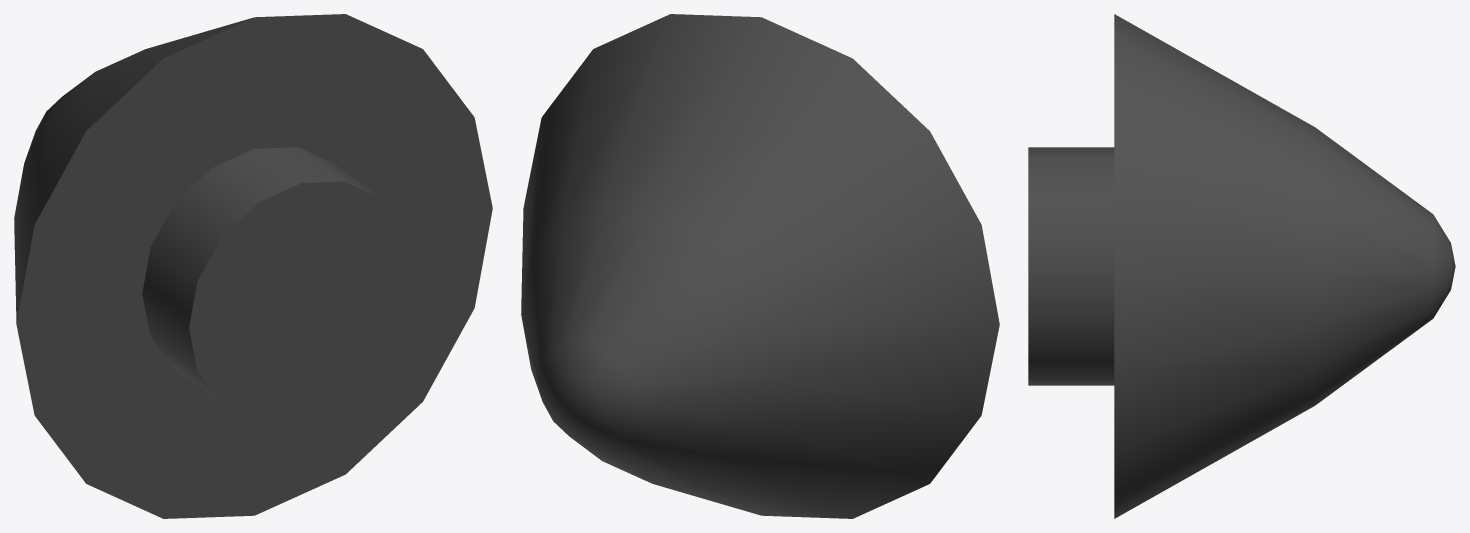
Rendered from Stylus_Analog_Nib.obj.
3 renders of one model, left to right at view 1: azimuth 30°, elevation 25°; view 2: azimuth 150°, elevation 25°; view 3: azimuth 270°, elevation 25°, orthographic. The views are drawn at different scales.
Parts seen in each view (by area): view 1: Stylus_Analog_Nib_Nib; view 2: Stylus_Analog_Nib_Nib; view 3: Stylus_Analog_Nib_Nib.
Boxes of the visible parts, box(x1,y1,x2,y2) form: Stylus_Analog_Nib_Nib: box(14, 14, 492, 518); Stylus_Analog_Nib_Nib: box(521, 14, 999, 518); Stylus_Analog_Nib_Nib: box(1028, 14, 1455, 518).
Bounding box in the file's own units: 0.0064 × 0.0064 × 0.00541.
Materials: 1 (1 with a texture image).
